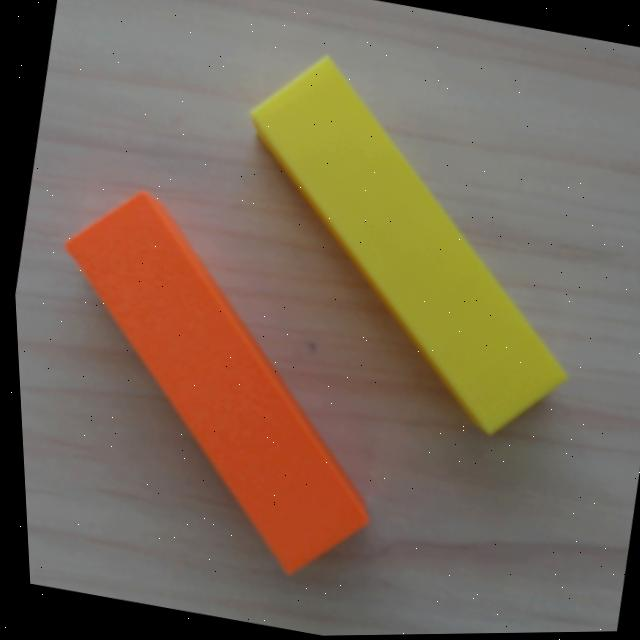Balok-Jingga-1002525: (62, 184, 374, 576)
Balok-Kuning-1002525: (243, 54, 567, 438)
